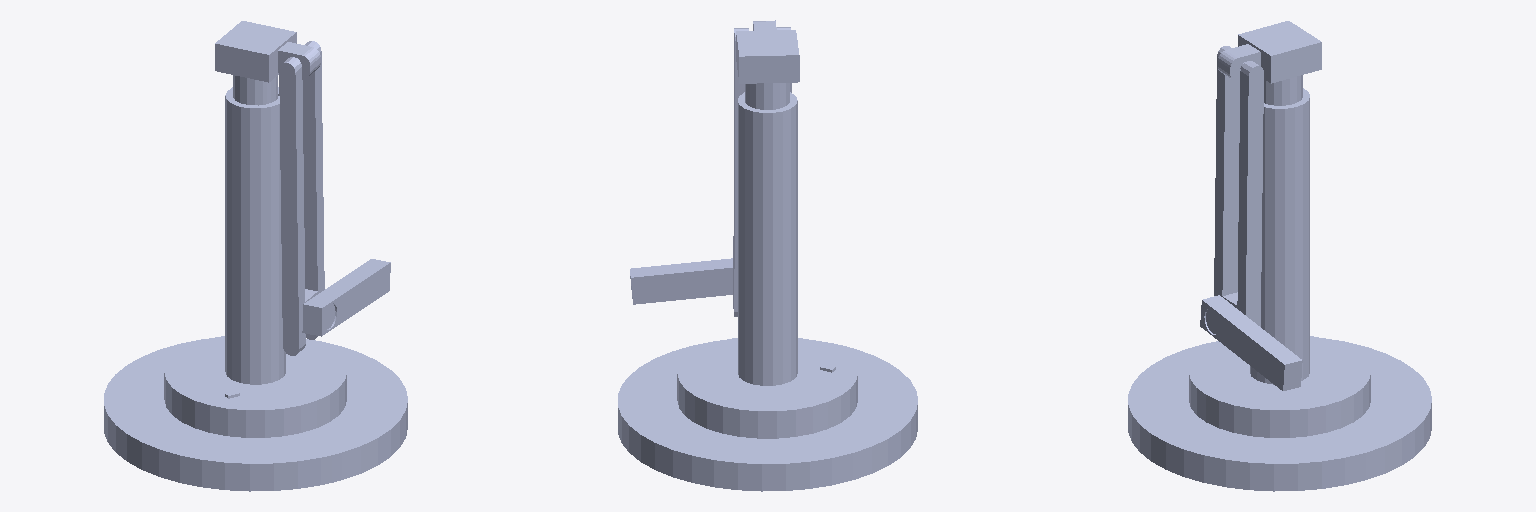
URDF robot description (infergy):
<?xml version="1.0" encoding="utf-8"?>
<!-- This URDF was automatically created by SolidWorks to URDF Exporter! Originally created by [author] ([email redacted]) 
     Commit Version: 1.5.1-0-g916b5db  Build Version: 1.5.7152.31018
     For more information, please see http://wiki.ros.org/sw_urdf_exporter -->
<robot
  name="infergy">
  <link name="world"/>
  <link name="end_point"/>
  <link
    name="base_link">
    <inertial>
      <origin
        xyz="0 0 0.0510765329857644"
        rpy="0 0 0" />
      <mass
        value="79.3945245858017" />
      <inertia
        ixx="4.98393702962181"
        ixy="1.91973549448359E-32"
        ixz="-2.85928996573851E-21"
        iyy="4.98393702962181"
        iyz="-6.66349314846052E-18"
        izz="9.8186397110035" />
    </inertial>
    <visual>
      <origin
        xyz="0 0 0"
        rpy="0 0 0" />
      <geometry>
        <mesh
          filename="package://infergy/meshes/base_link.STL" />
      </geometry>
      <material
        name="">
        <color
          rgba="0.792156862745098 0.819607843137255 0.933333333333333 1" />
      </material>
    </visual>
    <collision>
      <origin
        xyz="0 0 0"
        rpy="0 0 0" />
      <geometry>
        <mesh
          filename="package://infergy/meshes/base_link.STL" />
      </geometry>
    </collision>
  </link>
  <joint name = "dummy" type="fixed">
  <parent
      link="world" />
  <child
      link="base_link" />
  </joint>
  <link
    name="link1">
    <inertial>
      <origin
        xyz="-4.25969318994524E-05 0.22482607118716 3.28927082688946E-05"
        rpy="0 0 0" />
      <mass
        value="42.4032183306581" />
      <inertia
        ixx="4.50890897419026"
        ixy="-0.000216435482029465"
        ixz="0.000222425633857992"
        iyy="1.38090817253925"
        iyz="0.000167128214450409"
        izz="4.50902659526784" />
    </inertial>
    <visual>
      <origin
        xyz="0 0 0"
        rpy="0 0 0" />
      <geometry>
        <mesh
          filename="package://infergy/meshes/link1.STL" />
      </geometry>
      <material
        name="">
        <color
          rgba="0.792156862745098 0.819607843137255 0.933333333333333 1" />
      </material>
    </visual>
    <collision>
      <origin
        xyz="0 0 0"
        rpy="0 0 0" />
      <geometry>
        <mesh
          filename="package://infergy/meshes/link1.STL" />
      </geometry>
    </collision>
  </link>
  <joint
    name="rev1"
    type="revolute">
    <origin
      xyz="0 0 0.1"
      rpy="1.5708 0 0" />
    <parent
      link="base_link" />
    <child
      link="link1" />
    <axis
      xyz="0 1 0" />
    <limit
      lower="-3.14"
      upper="3.14"
      effort="0"
      velocity="0" />
  </joint>
  <link
    name="link2">
    <inertial>
      <origin
        xyz="0.00235685893503057 0.618985917366044 0.00359502003122458"
        rpy="0 0 0" />
      <mass
        value="22.461269494883" />
      <inertia
        ixx="2.01017285081223"
        ixy="0.000139271672549591"
        ixz="-0.00578769749890506"
        iyy="0.0900595301809686"
        iyz="0.000212437174391792"
        izz="2.00513897884739" />
    </inertial>
    <visual>
      <origin
        xyz="0 0 0"
        rpy="0 0 0" />
      <geometry>
        <mesh
          filename="package://infergy/meshes/link2.STL" />
      </geometry>
      <material
        name="">
        <color
          rgba="0.792156862745098 0.819607843137255 0.933333333333333 1" />
      </material>
    </visual>
    <collision>
      <origin
        xyz="0 0 0"
        rpy="0 0 0" />
      <geometry>
        <mesh
          filename="package://infergy/meshes/link2.STL" />
      </geometry>
    </collision>
  </link>
  <joint
    name="prism2"
    type="prismatic">
    <origin
      xyz="0 0.2 0"
      rpy="0 0 0" />
    <parent
      link="link1" />
    <child
      link="link2" />
    <axis
      xyz="0 1 0" />
    <limit
      lower="0"
      upper="0.8"
      effort="0"
      velocity="0" />
  </joint>
  <link
    name="link3">
    <inertial>
      <origin
        xyz="0.548973051492322 -0.0184160496962614 0.00758118055783608"
        rpy="0 0 0" />
      <mass
        value="7.40354002036845" />
      <inertia
        ixx="0.0374912716131671"
        ixy="0.0293299662429915"
        ixz="-4.44089209850063E-16"
        iyy="0.782990054819416"
        iyz="5.55111512312578E-17"
        izz="0.754914246556592" />
    </inertial>
    <visual>
      <origin
        xyz="0 0 0"
        rpy="0 0 0" />
      <geometry>
        <mesh
          filename="package://infergy/meshes/link3.STL" />
      </geometry>
      <material
        name="">
        <color
          rgba="0.792156862745098 0.819607843137255 0.933333333333333 1" />
      </material>
    </visual>
    <collision>
      <origin
        xyz="0 0 0"
        rpy="0 0 0" />
      <geometry>
        <mesh
          filename="package://infergy/meshes/link3.STL" />
      </geometry>
    </collision>
  </link>
  <joint
    name="rev3"
    type="revolute">
    <origin
      xyz="0.087723 1.06 0.13381"
      rpy="-2.1511 0.011486 -1.5783" />
    <parent
      link="link2" />
    <child
      link="link3" />
    <axis
      xyz="0 0 1" />
    <limit
      lower="-3.14"
      upper="0"
      effort="0"
      velocity="0" />
  </joint>
  <link
    name="link4">
    <inertial>
      <origin
        xyz="0.210787481970997 0.153346085635631 -0.000658297256135087"
        rpy="0 0 0" />
      <mass
        value="3.05467924135365" />
      <inertia
        ixx="0.00393838196136871"
        ixy="1.009392222584E-16"
        ixz="-5.39308630452942E-05"
        iyy="0.0581135578970605"
        iyz="3.49655200626575E-18"
        izz="0.0566698306494639" />
    </inertial>
    <visual>
      <origin
        xyz="0 0 0"
        rpy="0 0 0" />
      <geometry>
        <mesh
          filename="package://infergy/meshes/link4.STL" />
      </geometry>
      <material
        name="">
        <color
          rgba="0.792156862745098 0.819607843137255 0.933333333333333 1" />
      </material>
    </visual>
    <collision>
      <origin
        xyz="0 0 0"
        rpy="0 0 0" />
      <geometry>
        <mesh
          filename="package://infergy/meshes/link4.STL" />
      </geometry>
    </collision>
  </link>
  <joint
    name="rev4"
    type="revolute">
    <origin
      xyz="0.90889 0.063407 0.0075812"
      rpy="3.1416 -1.4872 -0.027469" />
    <parent
      link="link3" />
    <child
      link="link4" />
    <axis
      xyz="0 1 0" />
    <limit
      lower="-3.14"
      upper="3.14"
      effort="0"
      velocity="0" />
  </joint>
  <joint name = "end_joint" type="fixed">
  <origin
      xyz="0.40889 0.163407 0.0075812"
      rpy="3.1416 -3.0572 3.11300"/>
  <parent
      link="link4" />
  <child
      link="end_point" />
  </joint>
</robot>

--- Render facts (derived) ---
3 views of the same robot in one strip: view 1: azimuth 30°, elevation 25°; view 2: azimuth 150°, elevation 25°; view 3: azimuth 270°, elevation 25° (orthographic).
Model infergy with 7 links and 6 joints (3 revolute, 1 prismatic, 2 fixed), rooted at world, posed every joint at zero.
Visible links, largest first — view 1: link1, base_link, link3, link2, link4; view 2: link1, base_link, link2, link4, link3; view 3: link1, base_link, link3, link2, link4.
Link boxes in pixels (box(x1,y1,x2,y2)): link1: box(164, 87, 346, 437); base_link: box(104, 338, 407, 491); link3: box(279, 41, 335, 355); link2: box(215, 21, 320, 105); link4: box(302, 259, 390, 336); link1: box(677, 92, 857, 438); base_link: box(618, 340, 917, 491); link2: box(736, 20, 799, 109); link4: box(630, 258, 732, 304); link3: box(733, 27, 791, 316); link1: box(1189, 88, 1370, 437); base_link: box(1128, 338, 1431, 491); link3: box(1206, 46, 1263, 333); link2: box(1218, 21, 1321, 105); link4: box(1200, 295, 1302, 390).
Bounding box of the posed robot: 1.02 × 1 × 1.41 m (x, y, z).
Meshes: 5 distinct files referenced, 5 mesh visuals loaded (5 binary STL).